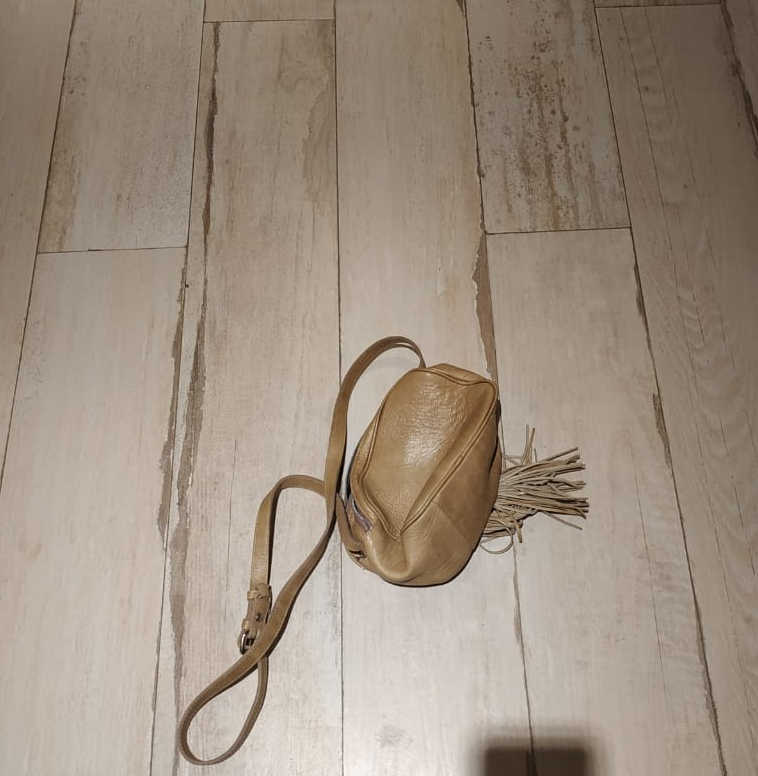cartera: (150, 283, 660, 765)
cuero: (196, 319, 567, 672)
